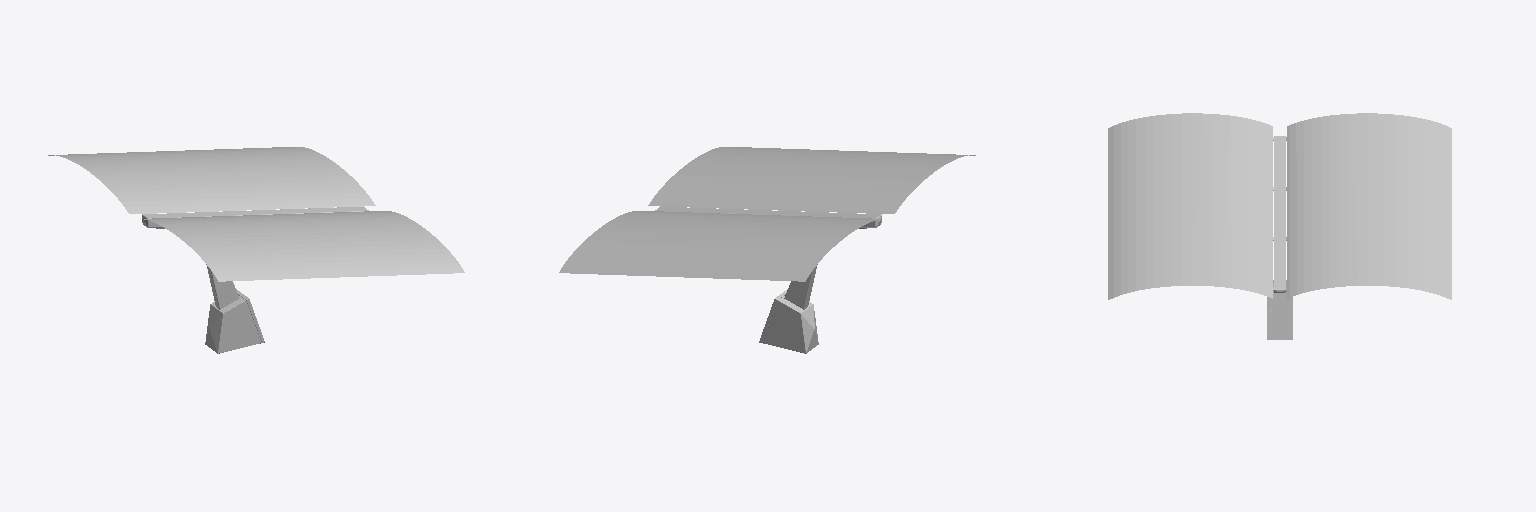
File: solar-Panel1.obj
3 renders of one model, left to right at view 1: azimuth 30°, elevation 25°; view 2: azimuth 150°, elevation 25°; view 3: azimuth 270°, elevation 25°, orthographic.
Parts seen in each view (by area): view 1: photovoltaic_sunshade; view 2: photovoltaic_sunshade; view 3: photovoltaic_sunshade.
Part boxes in pixels (bbox=[...]): photovoltaic_sunshade: bbox=[48, 147, 464, 353]; photovoltaic_sunshade: bbox=[559, 147, 975, 353]; photovoltaic_sunshade: bbox=[1108, 113, 1451, 339].
Bounding box in the file's own units: 3.52 × 2.25 × 4.25.